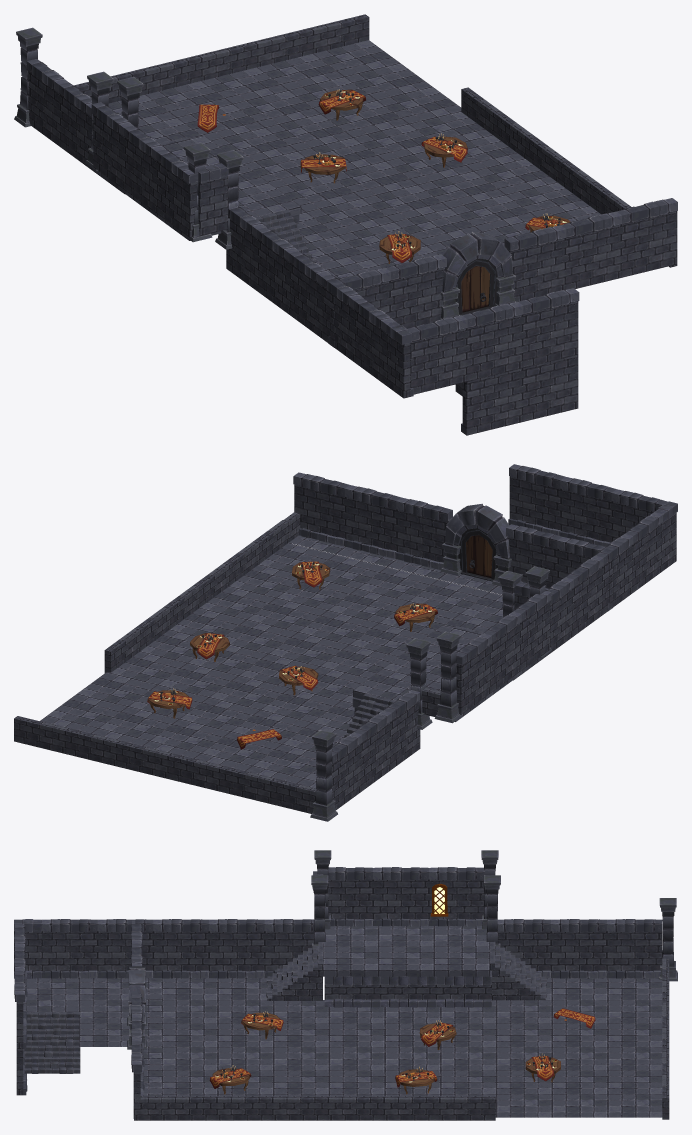
File: BanquetRoom1.gltf
The picture shows the model from 3 angles, top to bottom: view 1: azimuth 30°, elevation 25°; view 2: azimuth 150°, elevation 25°; view 3: azimuth 270°, elevation 25°; orthographic projection. The views are drawn at different scales.
Parts seen in each view (by area): view 1: BanquetRoom1; view 2: BanquetRoom1; view 3: BanquetRoom1.
Boxes of the visible parts, x1,y1,x2,y2 form: BanquetRoom1: (14,14,677,435); BanquetRoom1: (14,464,677,821); BanquetRoom1: (14,850,677,1120).
Size of the model in its own units: 27.46 by 12.33 by 47.67.
Materials: 10 (10 with a texture image).
